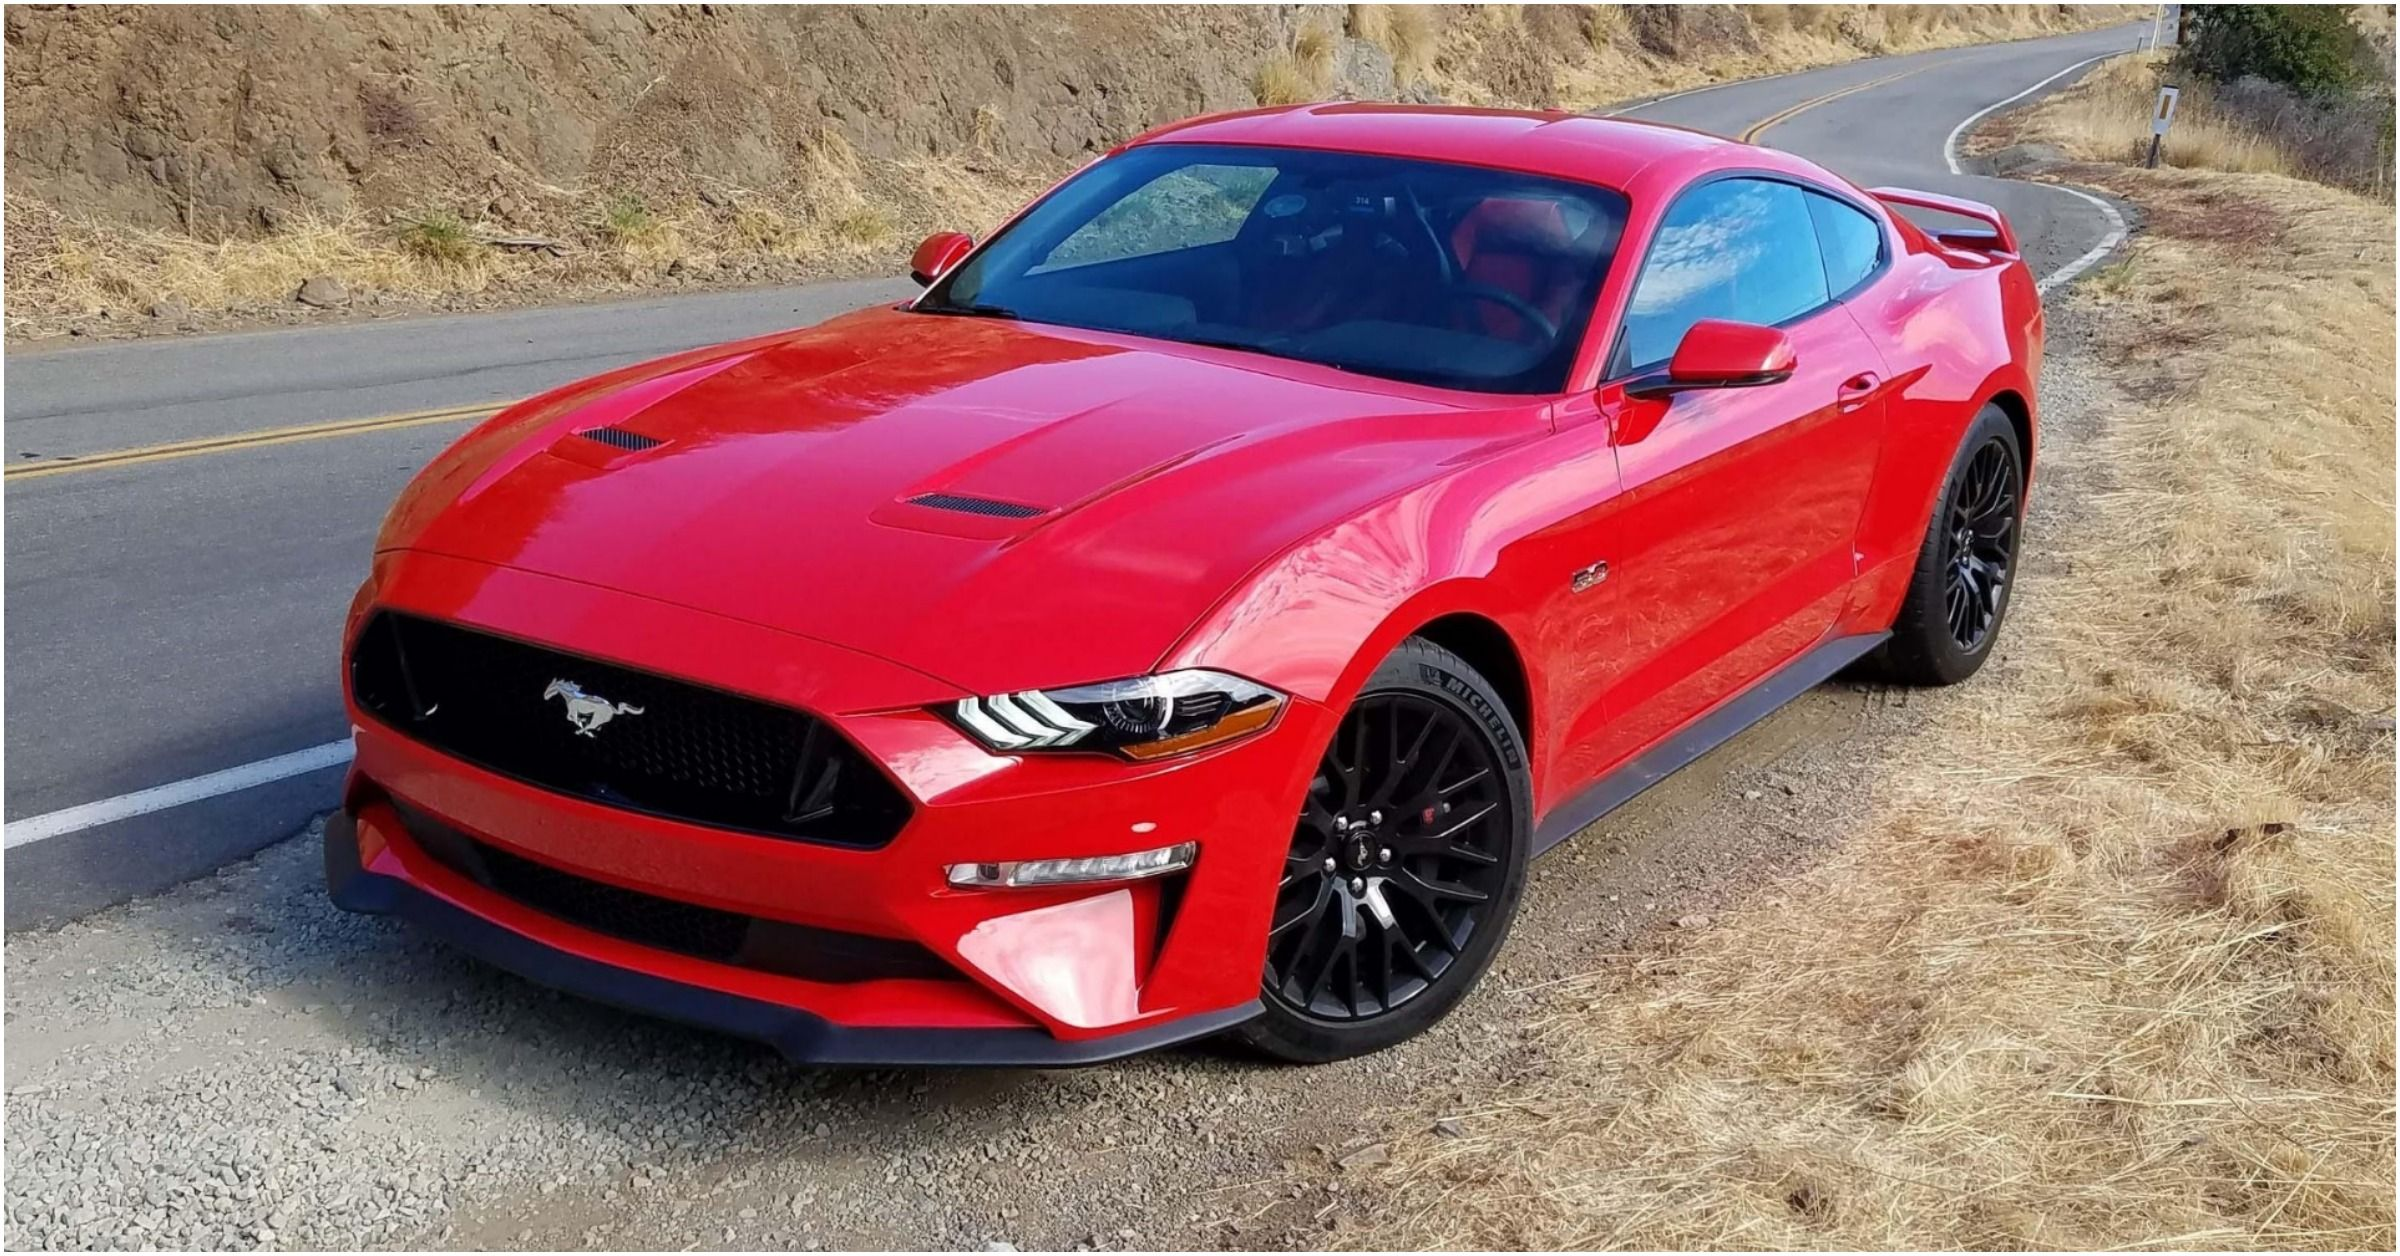headlight: (916, 657, 1267, 748)
wheel: (1232, 594, 1541, 1061), (1867, 375, 2046, 692)
